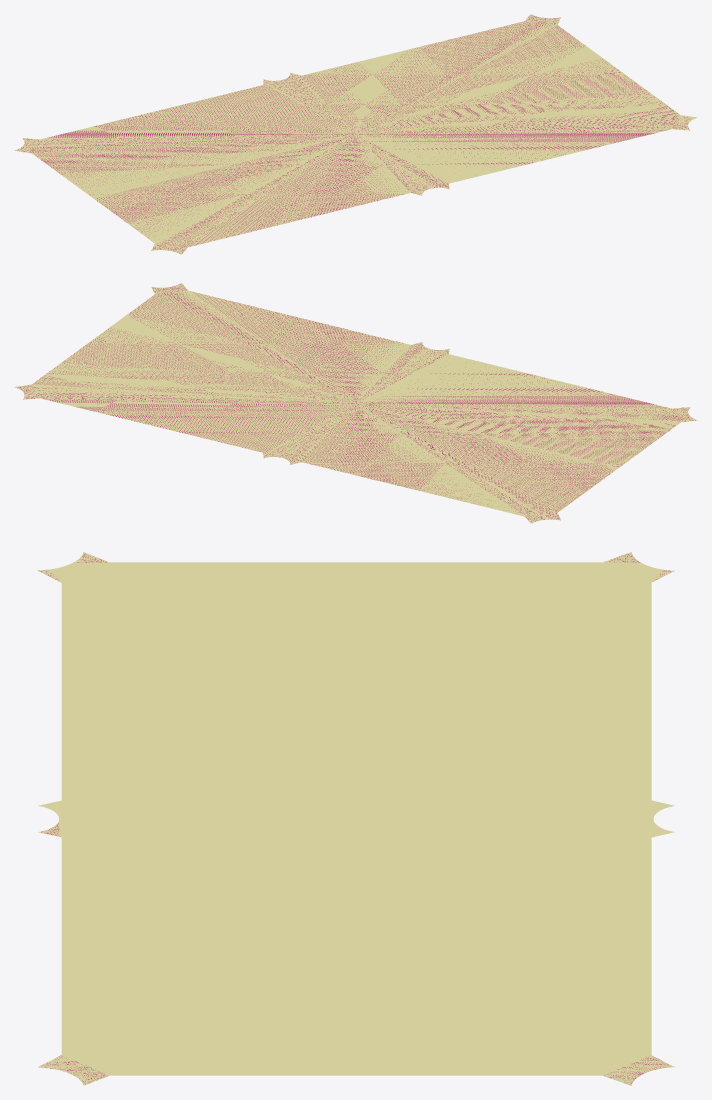
The model's file is PoolFloor.fbx.
3 renders of one model, top to bottom at view 1: azimuth 30°, elevation 25°; view 2: azimuth 150°, elevation 25°; view 3: azimuth 270°, elevation 25°, orthographic. The views are drawn at different scales.
Visible parts, largest first — view 1: Model; view 2: Model; view 3: Model.
Part boxes in pixels (x1,y1,x2,y2): Model: (14,14,697,254); Model: (14,283,697,523); Model: (37,552,674,1085).
Bounding box in the file's own units: 8.91 × 1e-32 × 4.51.
